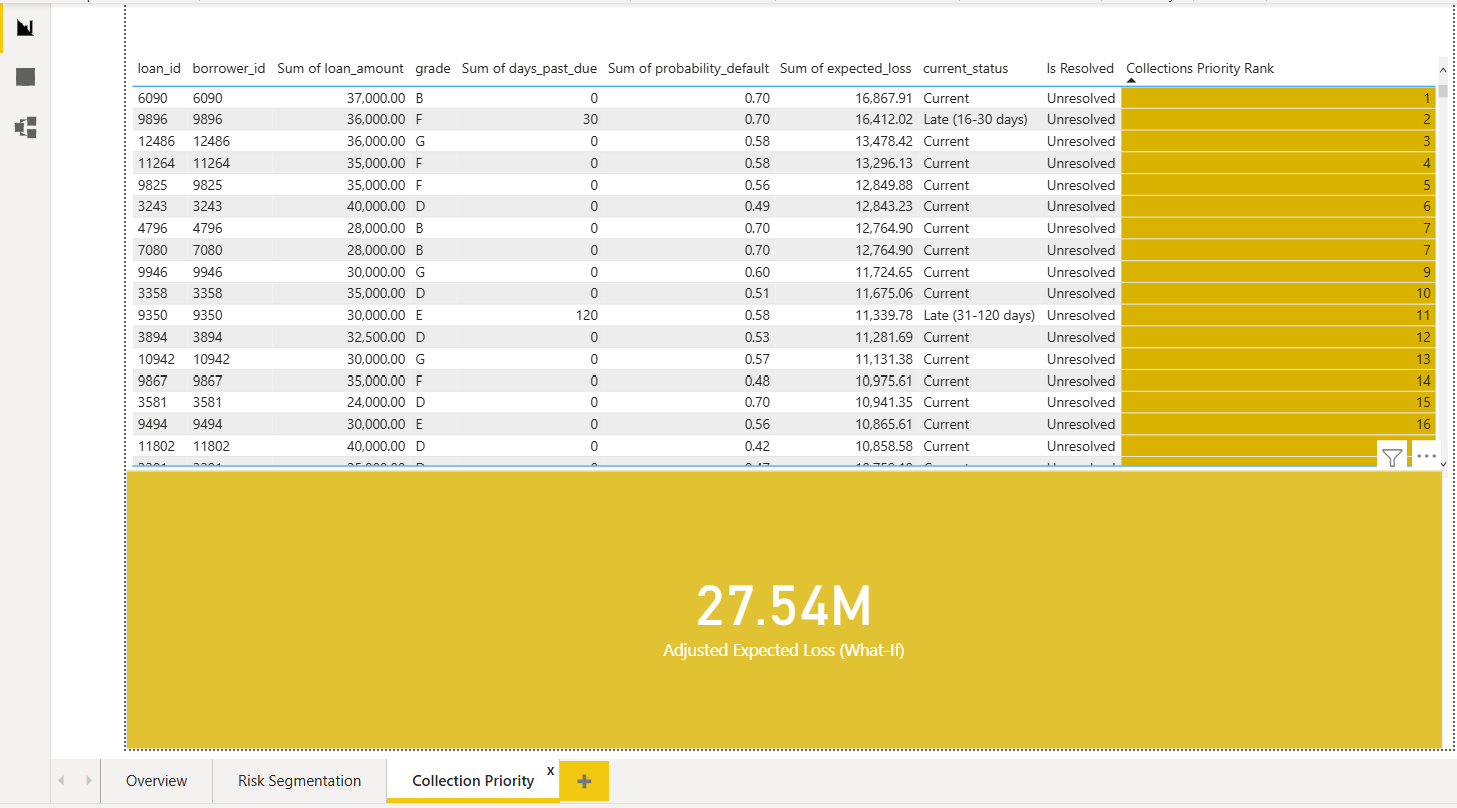

The page's visual inventory and layout, read from the dashboard file:
{"tool":"powerbi","page":{"name":"Collection Priority","canvas":[1280,720],"ordinal":2},"visuals":[{"type":"tableEx","fields":{"Values":["loans_flat.loan_id","loans_flat.borrower_id","Sum(loans_flat.loan_amount)","loans_flat.grade","Sum(loans_flat.days_past_due)","Sum(loans_flat.probability_default)","Sum(loans_flat.expected_loss)","loans_flat.current_status","loans_flat.Is Resolved","loans_flat.Collections Priority Rank"]},"box":[0,46.4,1280,425.2],"z":0},{"type":"card","fields":{"Values":["loans_flat.Adjusted Expected Loss (What-If)"]},"box":[0,451.3,1269.8,268.5],"z":2000}]}

Visuals, with their boxes on the page's 1280x720 design canvas (x1, y1, x2, y2). These are canvas units, not pixel positions in the 1457x808 screenshot, which may show the page scaled, cropped or inside an application window:
tableEx - loans_flat.loan_id x loans_flat.borrower_id: 0/46/1280/472
card - loans_flat.Adjusted Expected Loss (What-If): 0/451/1270/720
